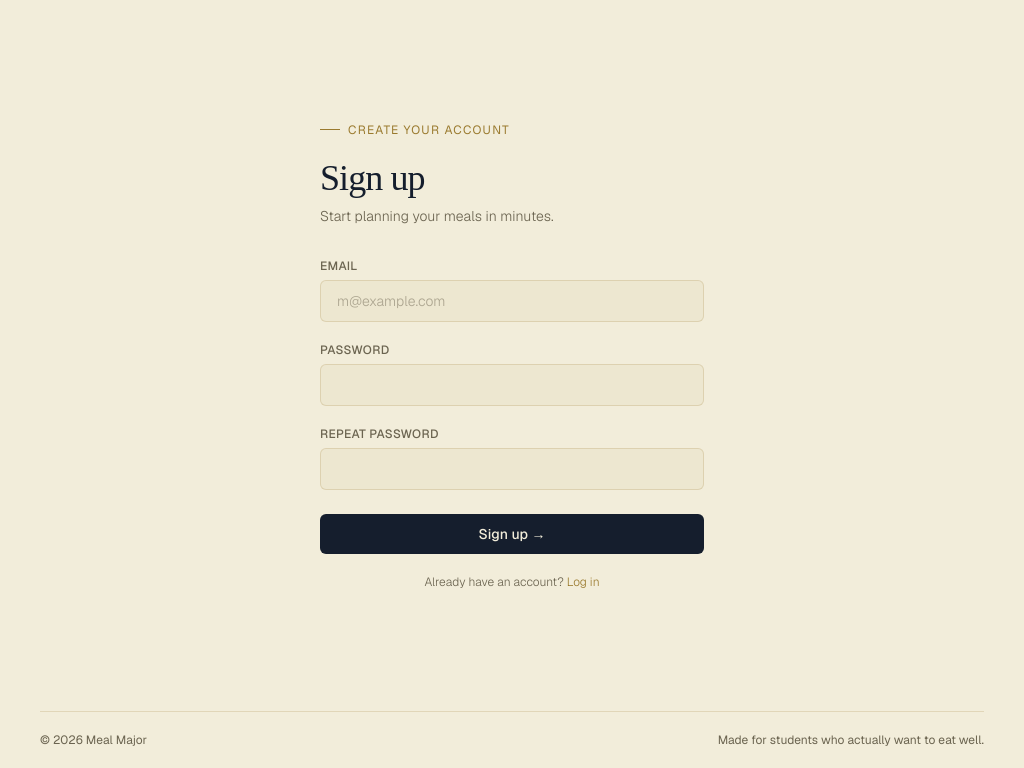
it: SignUpForm › shows error when passwords do not match
In the field labelled "Email": (512, 300) 320,280 -> 704,322, type "test@example.com"
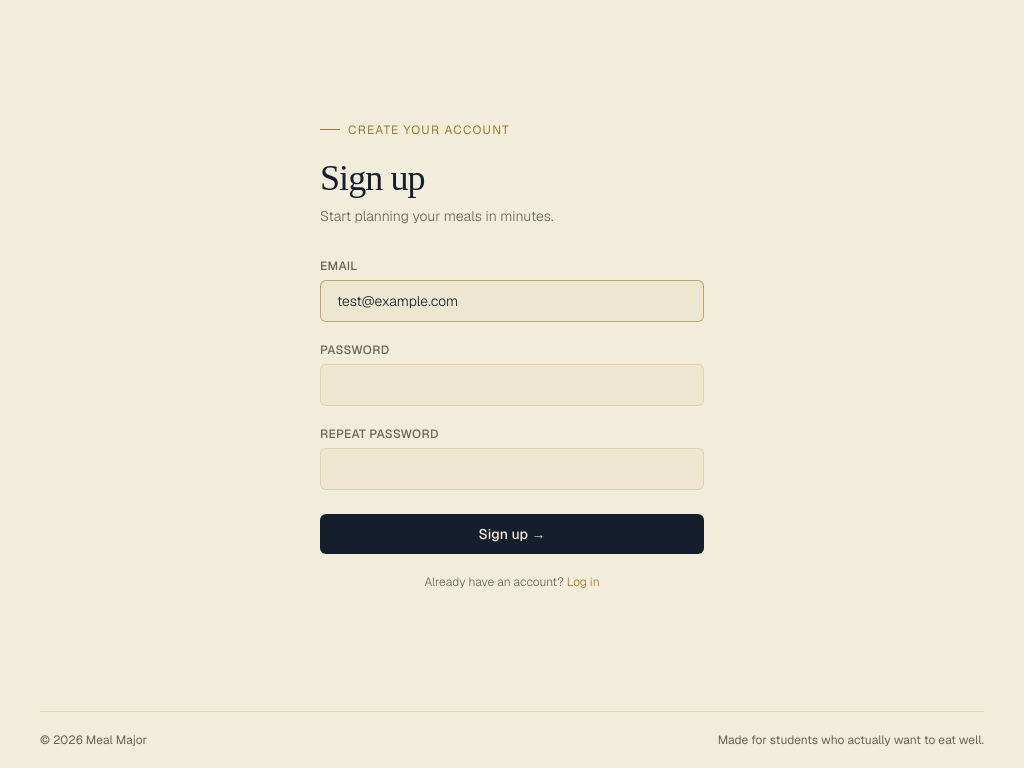
In the password field labelled "Password": (512, 384) 320,364 -> 704,406, type "password123"
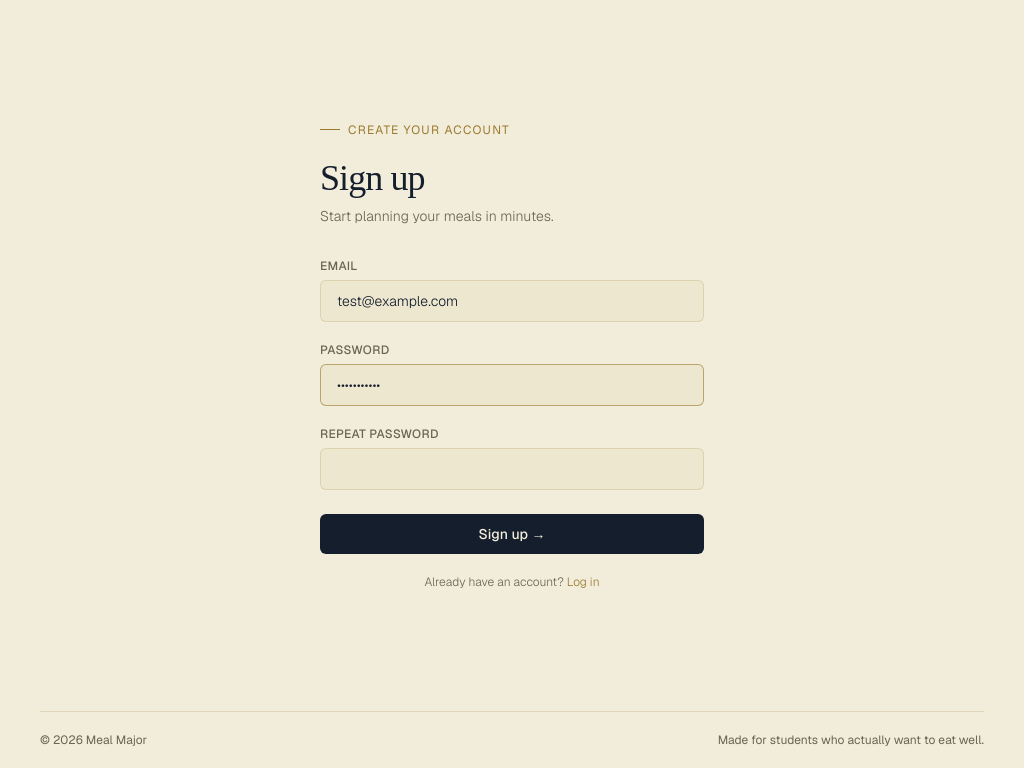
In the password field labelled "Repeat Password": (512, 468) 320,448 -> 704,490, type "different"
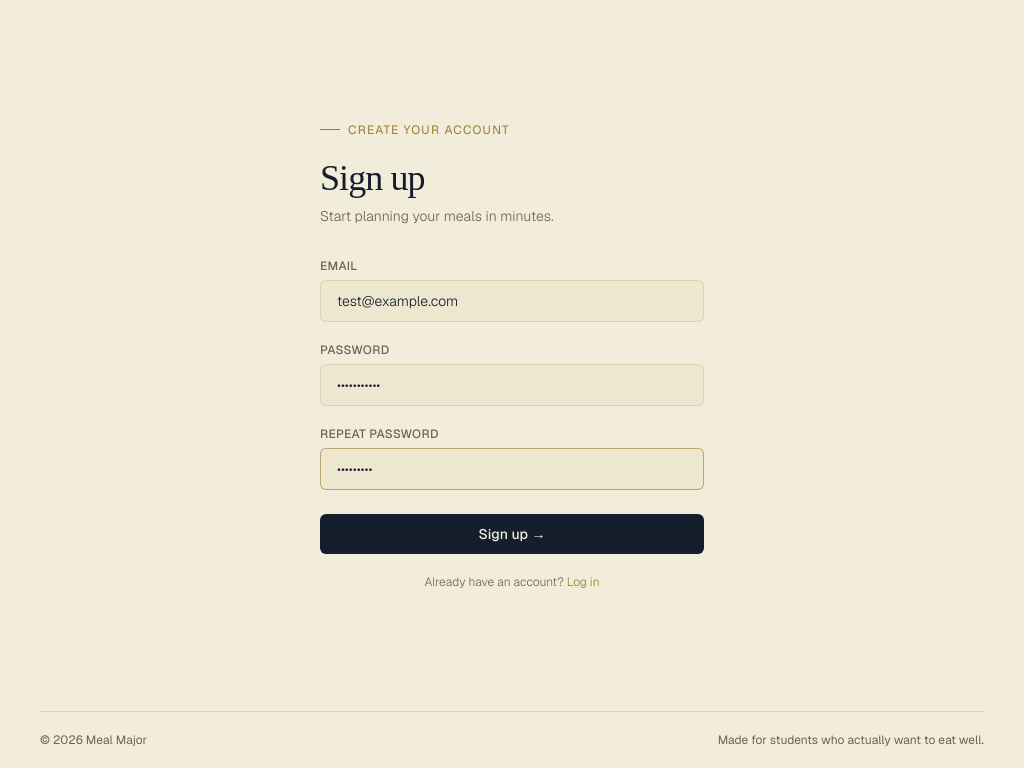
Click the button "Sign up →": (512, 534) 320,514 -> 704,554
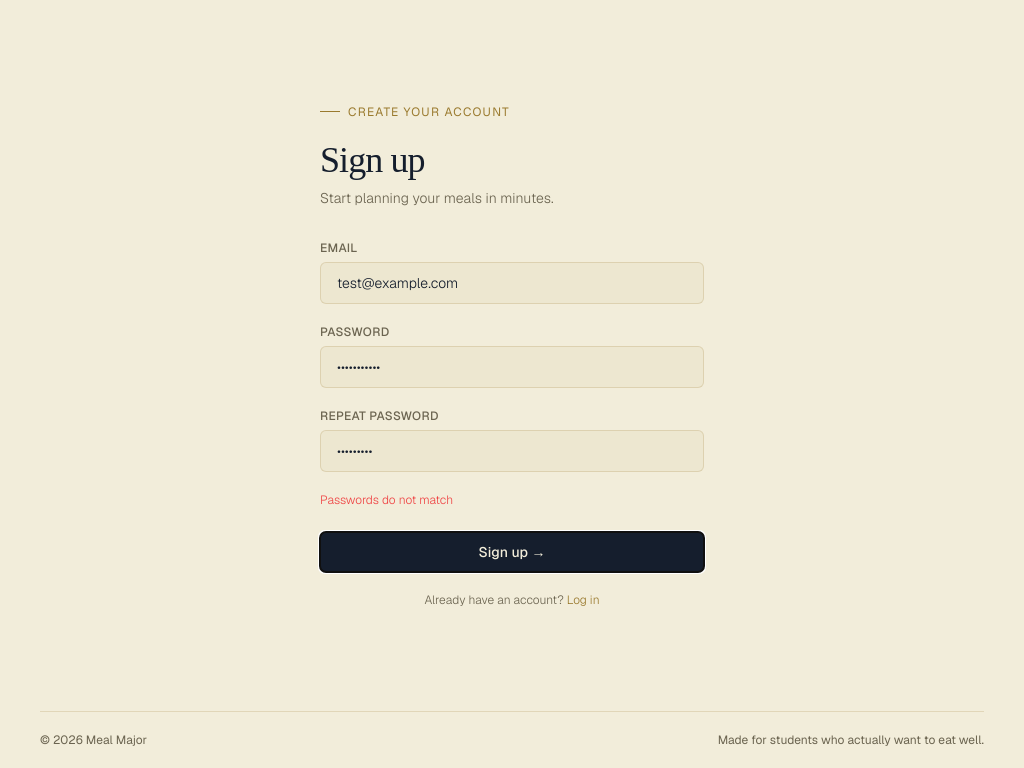
Expected: the text "Passwords do not match" is shown, 320,492 -> 453,508
